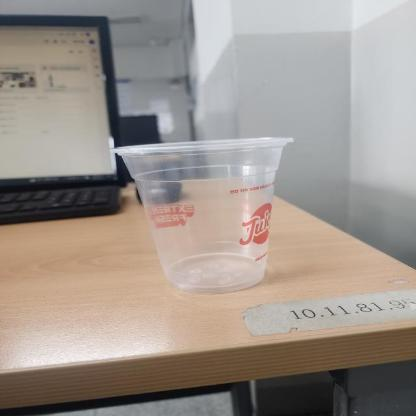Plastic Cup: (110, 134, 294, 293)
